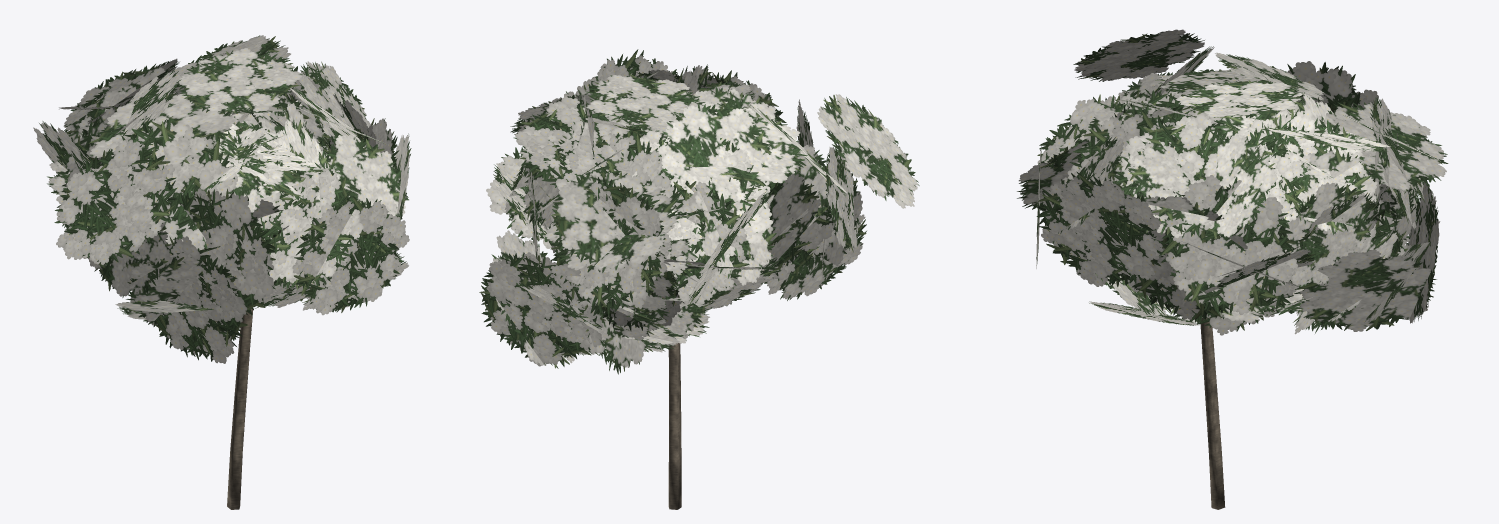
The model's file is SM_Morin_OleandroAlberello_Bianco_LOD2.fbx.
3 views of the same model, side by side, from view 1: azimuth 30°, elevation 25°; view 2: azimuth 150°, elevation 25°; view 3: azimuth 270°, elevation 25° (orthographic).
Visible parts, largest first — view 1: SM_Morin_OleandroAlberello_Bianco_LOD2; view 2: SM_Morin_OleandroAlberello_Bianco_LOD2; view 3: SM_Morin_OleandroAlberello_Bianco_LOD2.
Boxes of the visible parts, x1,y1,x2,y2 form: SM_Morin_OleandroAlberello_Bianco_LOD2: (33, 35, 411, 509); SM_Morin_OleandroAlberello_Bianco_LOD2: (479, 49, 919, 509); SM_Morin_OleandroAlberello_Bianco_LOD2: (1017, 29, 1448, 509).
Bounding box in the file's own units: 401 × 422 × 409.
Materials: 2 (2 with a texture image).
